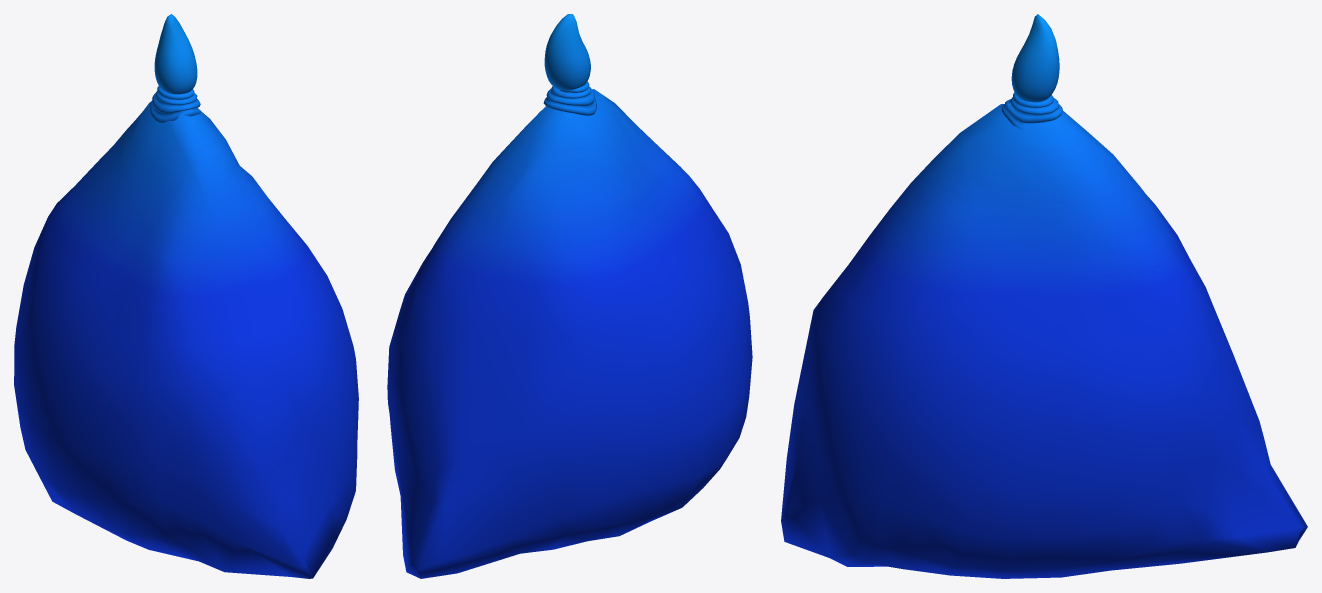
3 views of the same model, side by side, from view 1: azimuth 30°, elevation 25°; view 2: azimuth 150°, elevation 25°; view 3: azimuth 270°, elevation 25° (orthographic). The views are drawn at different scales.
Parts seen in each view (by area): view 1: Cube.014_Baked; view 2: Cube.014_Baked; view 3: Cube.014_Baked.
Part boxes in pixels (box(x1,y1,x2,y2)): Cube.014_Baked: box(14, 14, 358, 578); Cube.014_Baked: box(387, 14, 752, 578); Cube.014_Baked: box(781, 14, 1307, 578).
Size of the model in its own units: 143 by 232 by 214.
Materials: 1 (1 with a texture image).
